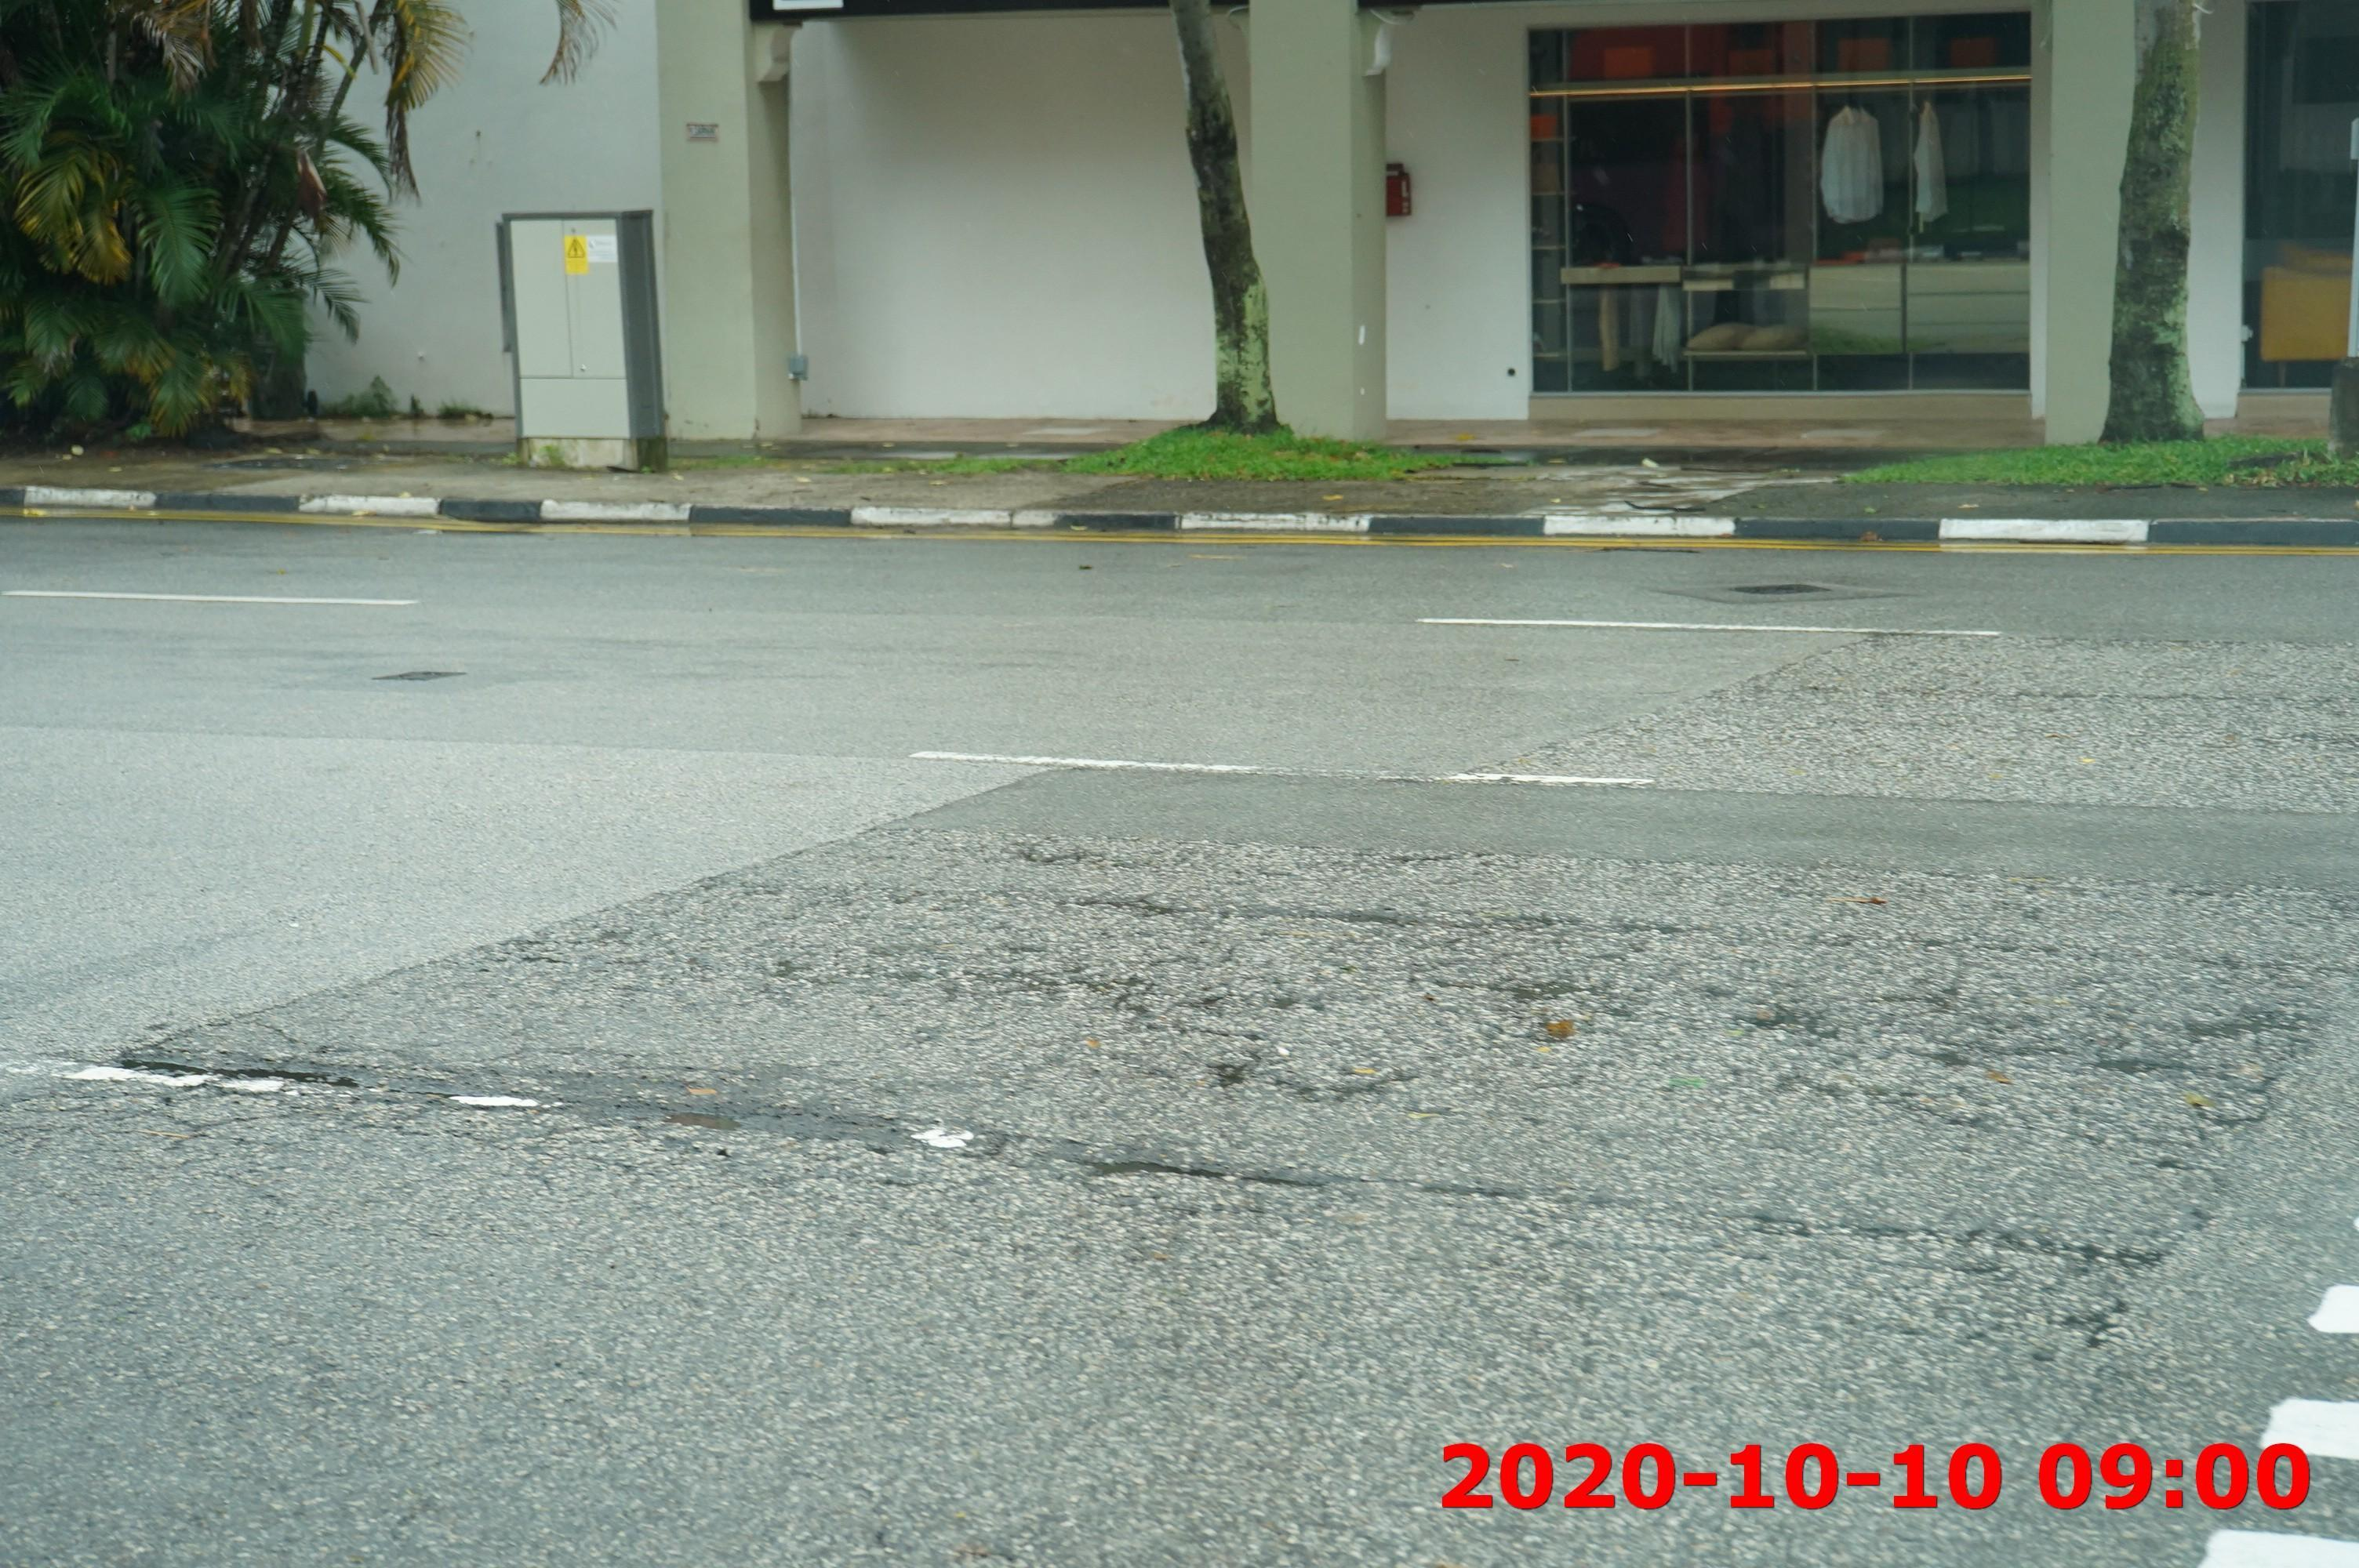alligator crack: (91, 838, 2060, 1270)
